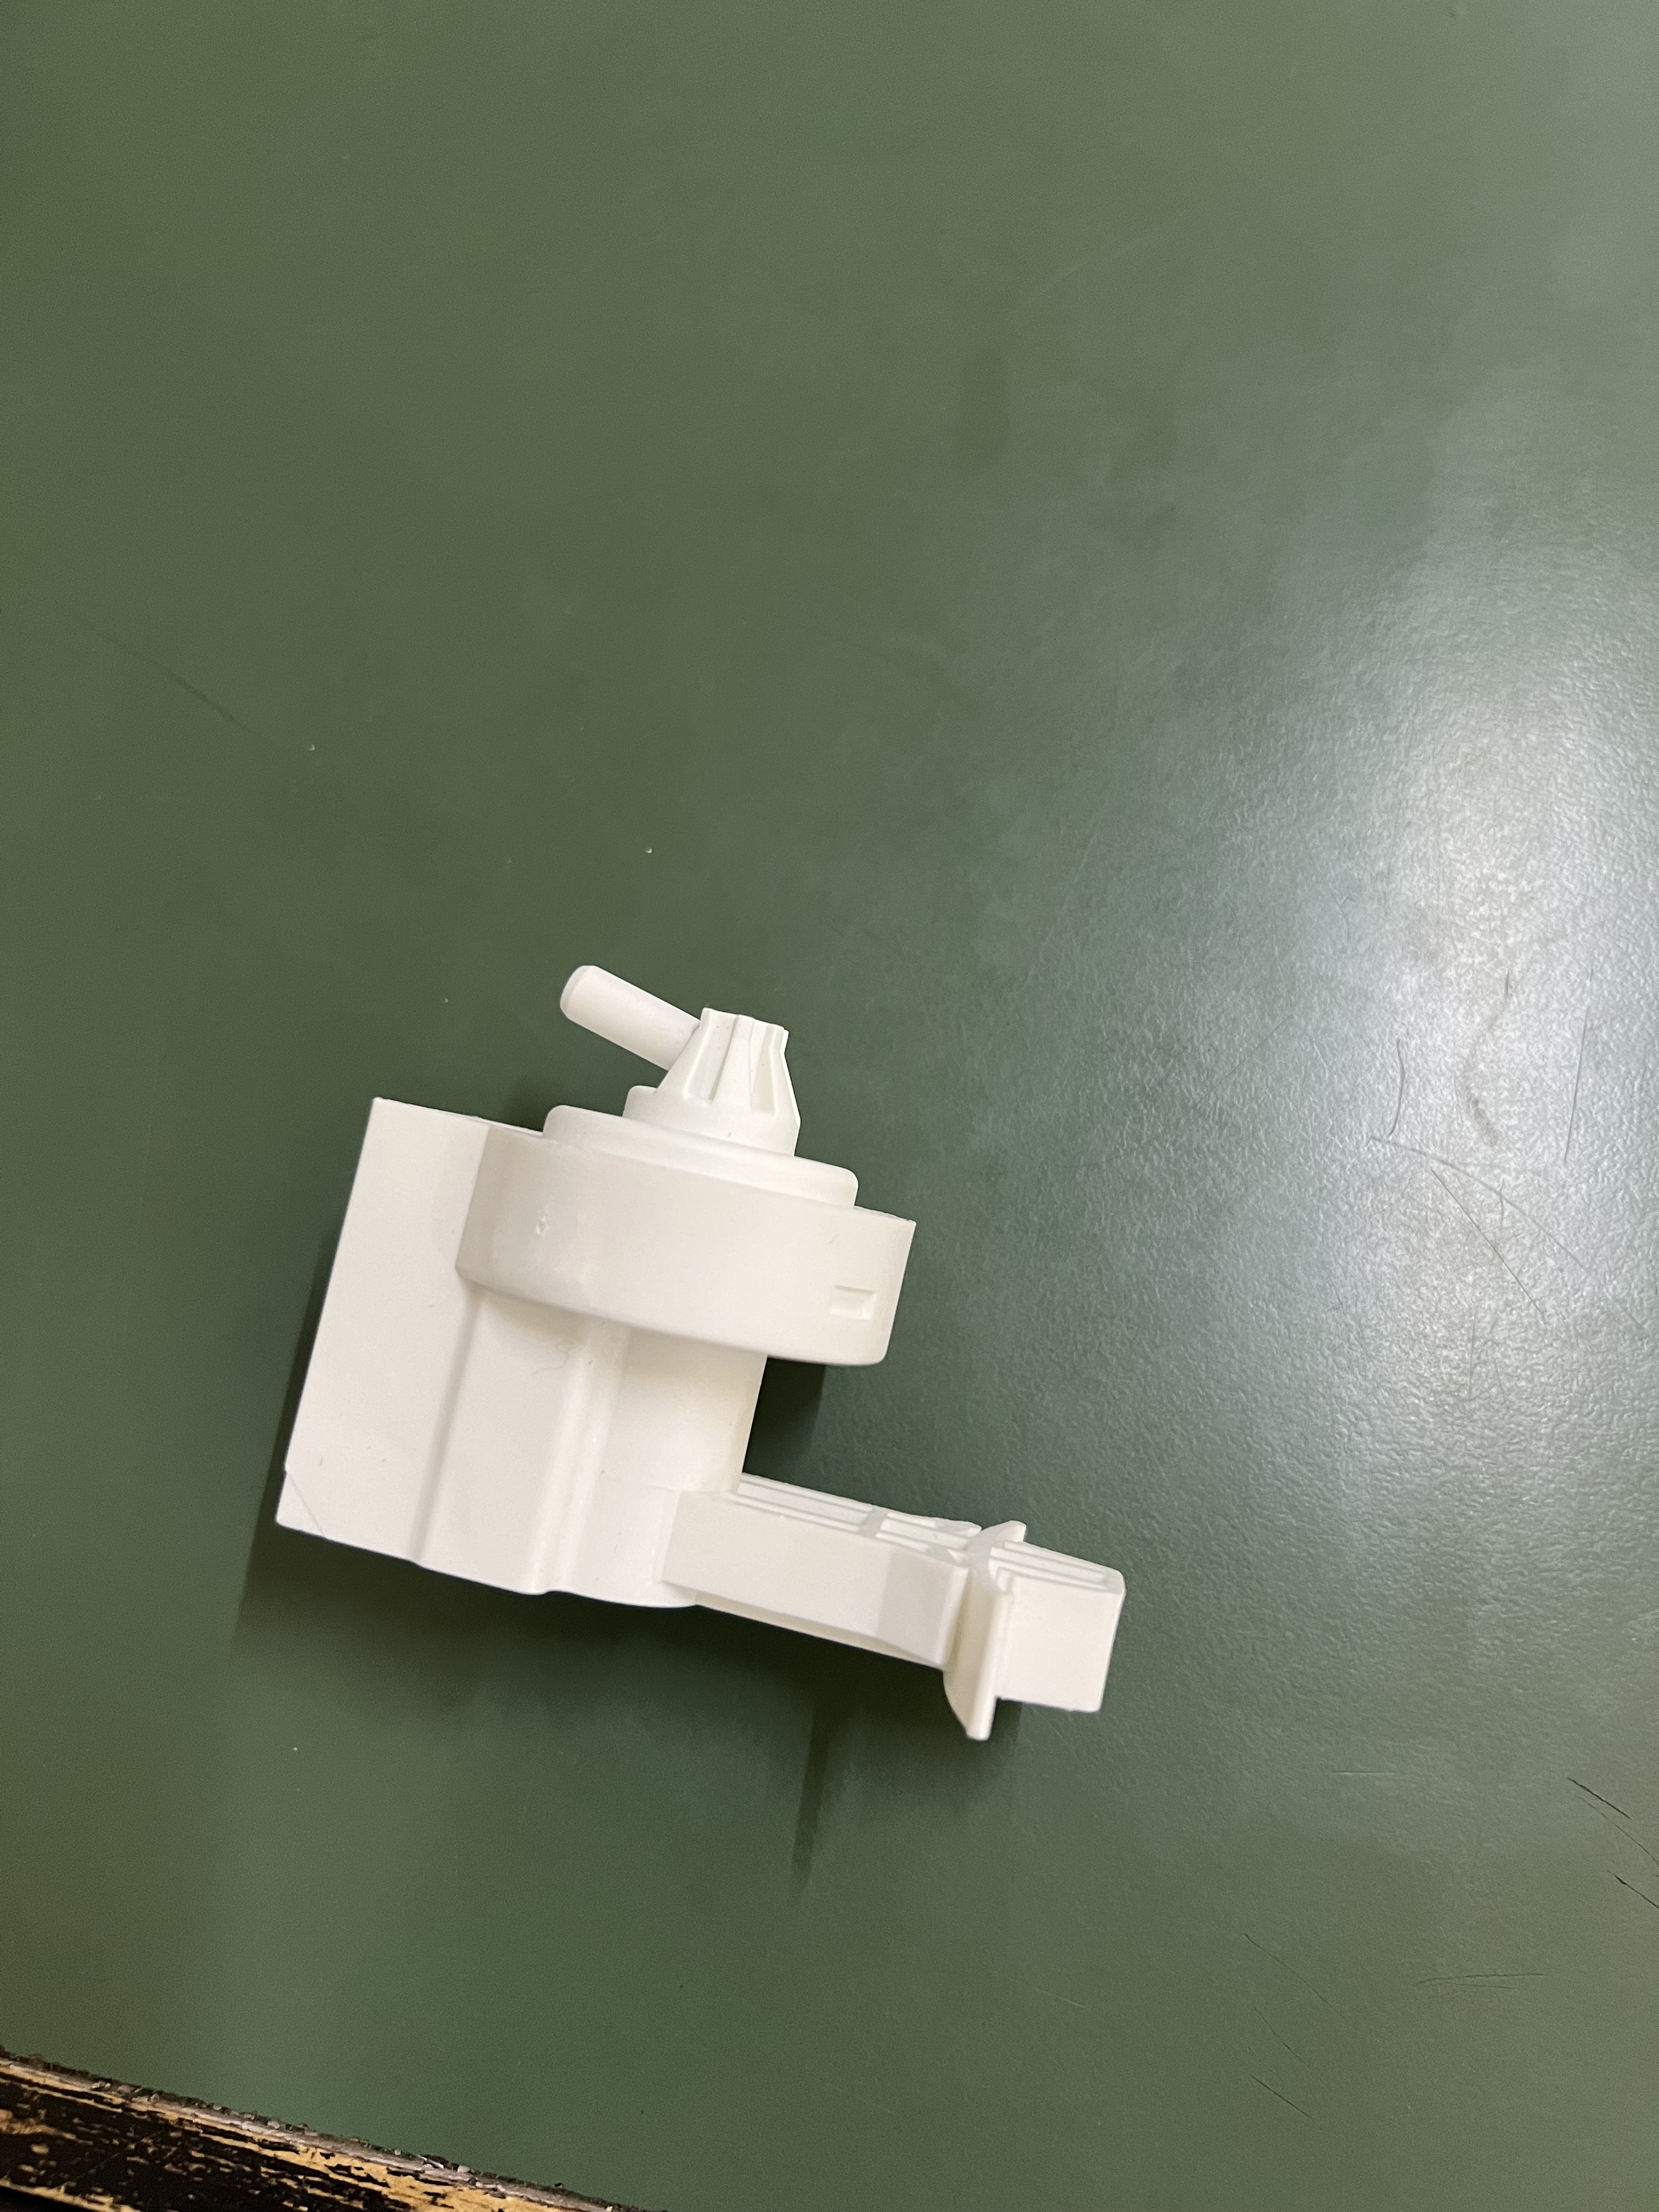pressure_switch_1: (258, 932, 1140, 1749)
